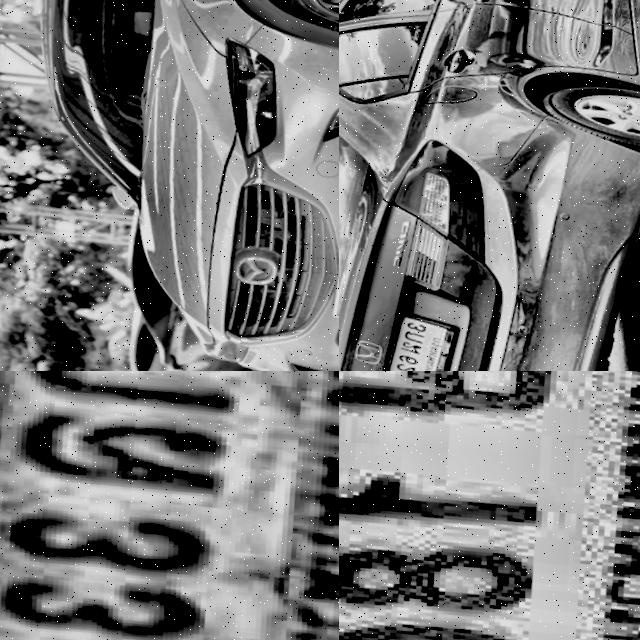license-plate: (0, 371, 339, 640), (339, 371, 640, 640), (359, 307, 458, 371), (309, 248, 339, 335)
